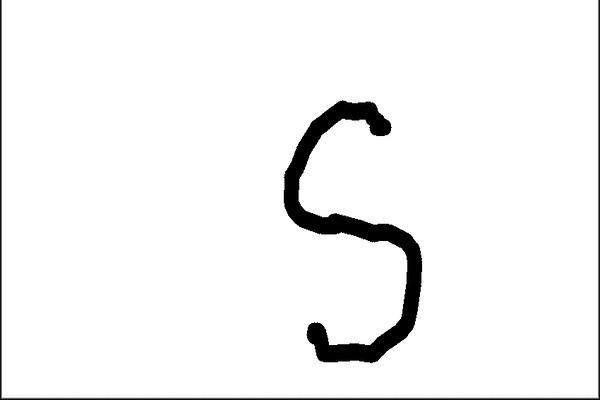S: (273, 95, 428, 373)
